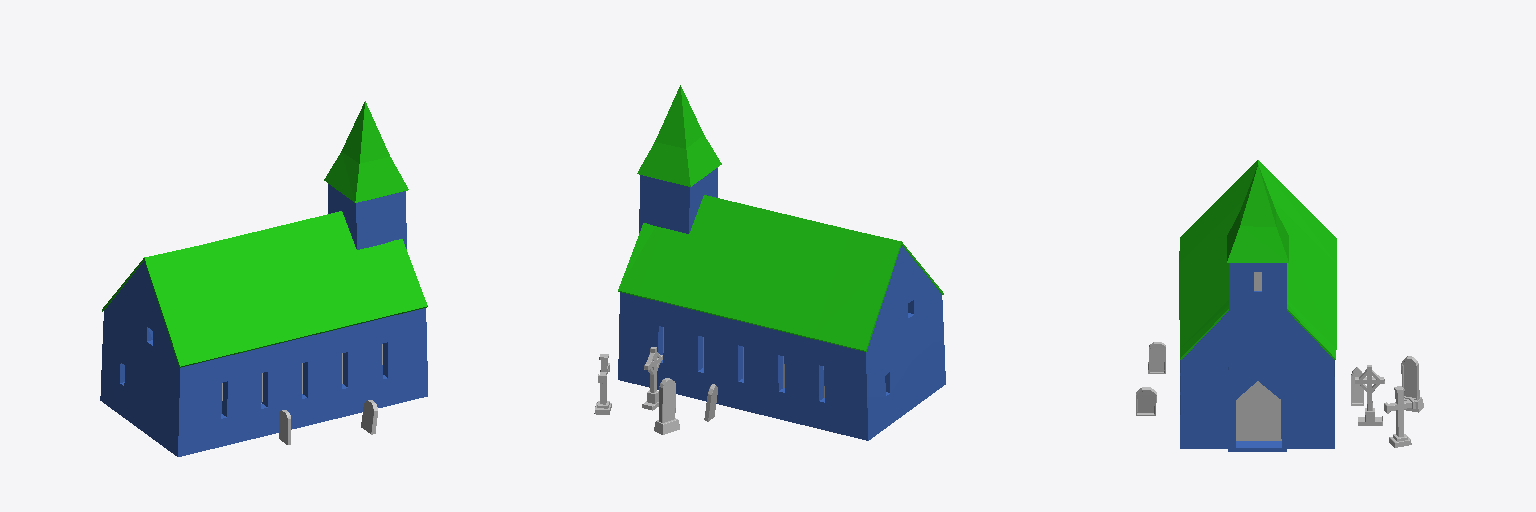
File: Church.obj
The picture shows the model from 3 angles: view 1: azimuth 30°, elevation 25°; view 2: azimuth 150°, elevation 25°; view 3: azimuth 270°, elevation 25°; orthographic projection.
Visible parts, largest first — view 1: church_Grave_10.002_Cube.136; view 2: church_Grave_10.002_Cube.136; view 3: church_Grave_10.002_Cube.136.
Part boxes in pixels (left/top/right/bottom): church_Grave_10.002_Cube.136: left=100, top=101, right=427, bottom=456; church_Grave_10.002_Cube.136: left=594, top=85, right=945, bottom=440; church_Grave_10.002_Cube.136: left=1136, top=160, right=1423, bottom=451.
Bounding box in the file's own units: 11.33 × 11.79 × 11.07.